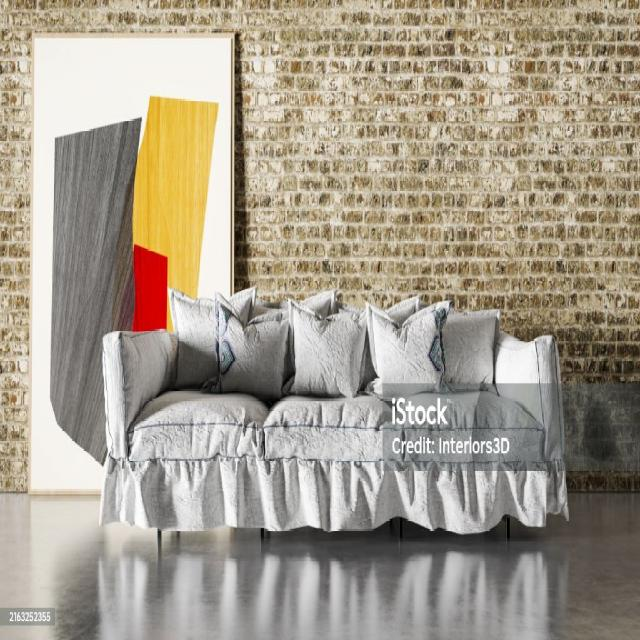back_cushion: (169, 289, 533, 427)
base: (100, 456, 568, 532)
left_arm: (496, 332, 563, 443)
legs: (98, 288, 568, 534), (481, 332, 561, 434), (389, 518, 402, 542), (503, 517, 510, 539), (157, 529, 161, 551), (260, 528, 265, 542), (396, 518, 402, 529), (176, 531, 179, 537)
right_arm: (102, 331, 172, 456)
seat_cushion: (127, 390, 559, 469)
stallion-sofa1: (99, 296, 568, 532)
